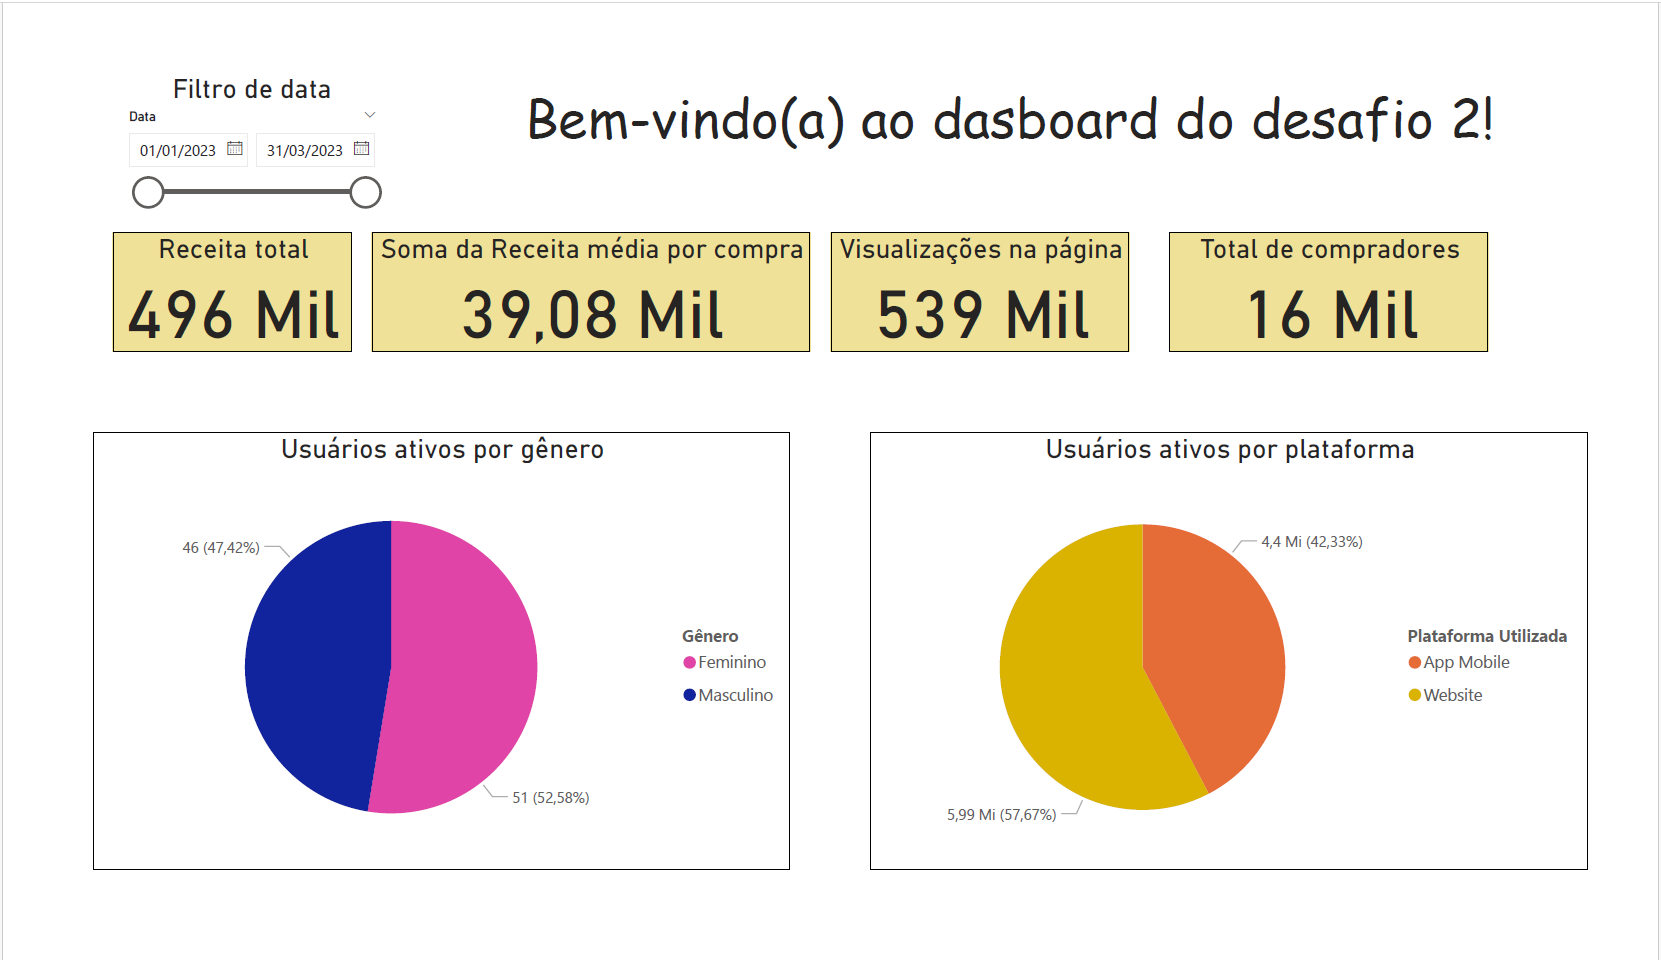

This screenshot's page, from the dashboard's own definition file:
{"tool":"powerbi","page":{"name":"Página 1","canvas":[1280,720],"ordinal":0},"visuals":[{"type":"card","title":"Receita total","fields":{"Values":["Sum(Planilha1.Receita Total)"]},"box":[64,160,192,96],"z":0},{"type":"card","title":"Soma da Receita média por compra","fields":{"Values":["Sum(Planilha1.Receita Média por Compra)"]},"box":[272,160,352,96],"z":1000},{"type":"card","title":"Visualizações na página","fields":{"Values":["Sum(Planilha1.Visualizações na Página)"]},"box":[640,160,240,96],"z":2000},{"type":"pieChart","title":"Usuários ativos por gênero","fields":{"Category":["Planilha1.Gênero"],"Y":["CountNonNull(Planilha1.Gênero)"]},"box":[48,320,560,352],"z":3000},{"type":"pieChart","title":"Usuários ativos por plataforma","fields":{"Y":["Sum(Planilha1.Usuários Ativos)"],"Series":["Planilha1.Plataforma Utilizada"]},"box":[672,320,576,352],"z":4000},{"type":"slicer","title":"Filtro de data","fields":{"Values":["Planilha1.Data"]},"box":[64,32,224,112],"z":5000},{"type":"card","title":"Total de compradores","fields":{"Values":["Sum(Planilha1.Número de Compradores)"]},"box":[912,160,256,96],"z":6000},{"type":"textbox","box":[336,32,896,80],"z":7000}]}

Visuals, with their boxes in screenshot pixels (x1, y1, x2, y2), scaled from the page's 1280x720 canvas onto the 1661x960 screenshot:
"Receita total" card: 83/213/332/341
"Soma da Receita média por compra" card: 353/213/810/341
"Visualizações na página" card: 830/213/1142/341
"Usuários ativos por gênero" pieChart: 62/427/789/896
"Usuários ativos por plataforma" pieChart: 872/427/1619/896
"Filtro de data" slicer: 83/43/374/192
"Total de compradores" card: 1183/213/1516/341
textbox: 436/43/1599/149
